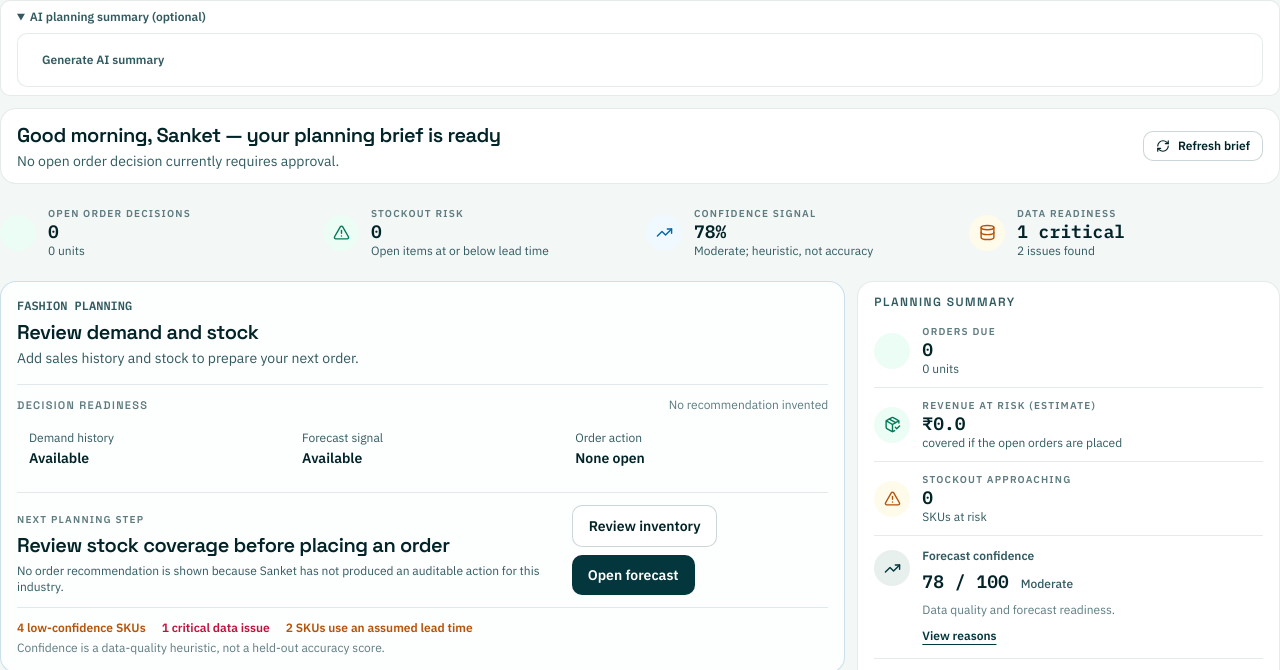
retains a generated summary when unchanged source data is polled again
Expected: the link "4 low-confidence SKUs" is shown, top-left (17, 620), bottom-right (146, 636)
Click the button "Generate AI summary": click(103, 60) top-left (30, 46), bottom-right (176, 74)
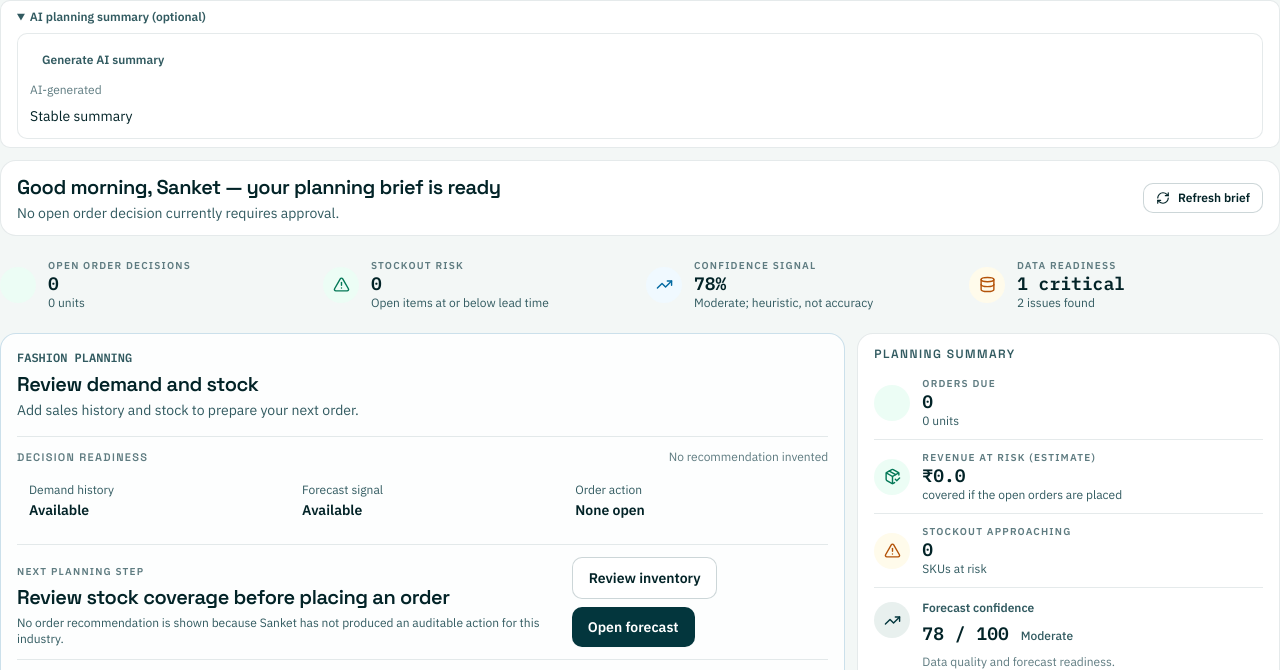
Expected: the text "Stable summary" is shown, top-left (30, 107), bottom-right (132, 125)
